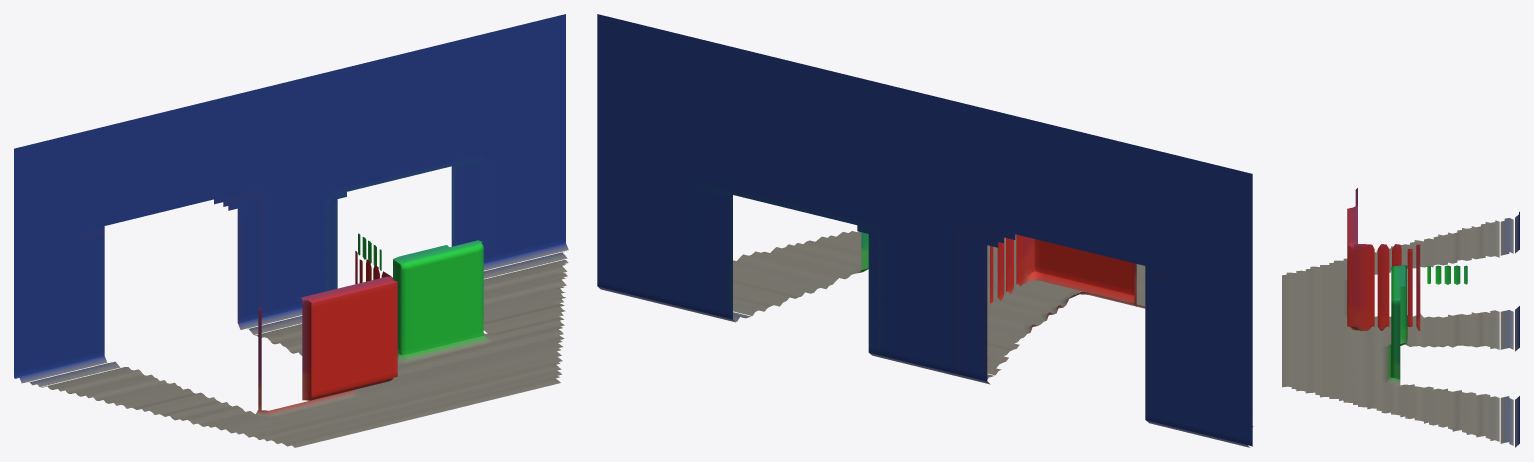
The model's file is after.glb.
The picture shows the model from 3 angles, left to right: view 1: azimuth 30°, elevation 25°; view 2: azimuth 150°, elevation 25°; view 3: azimuth 270°, elevation 25°; orthographic projection. The views are drawn at different scales.
Parts seen in each view (by area): view 1: Environment, Target0, Other0; view 2: Environment, Target0; view 3: Environment, Target0, Other0.
Boxes of the visible parts, left/top/right/bottom form: Environment: left=14, top=14, right=568, bottom=447; Target0: left=301, top=251, right=397, bottom=400; Other0: left=358, top=233, right=483, bottom=355; Environment: left=597, top=14, right=1253, bottom=447; Target0: left=990, top=234, right=1136, bottom=306; Environment: left=1282, top=188, right=1519, bottom=447; Target0: left=1347, top=205, right=1420, bottom=331; Other0: left=1391, top=265, right=1467, bottom=378.
Size of the model in its own units: 4.06 by 1.65 by 1.76.
